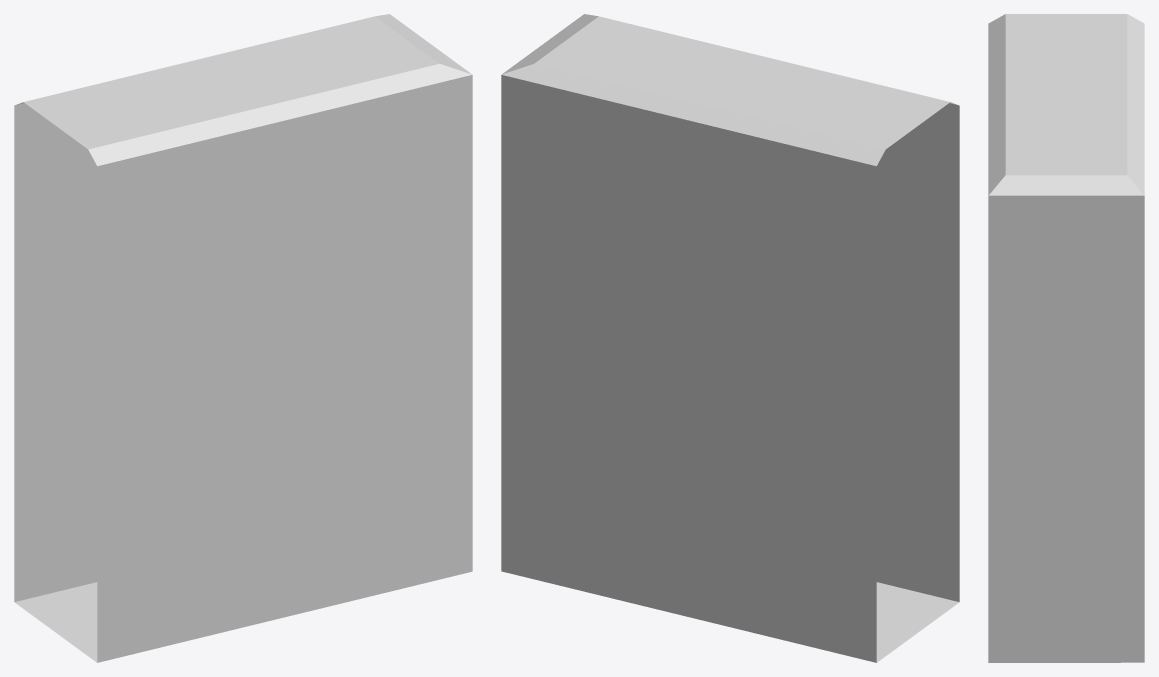
File: Itr_Couch_Outside_Back_Right_06.FBX
3 renders of one model, left to right at view 1: azimuth 30°, elevation 25°; view 2: azimuth 150°, elevation 25°; view 3: azimuth 270°, elevation 25°, orthographic. The views are drawn at different scales.
Visible parts, largest first — view 1: Itr_Couch_Outside_Back_Right_06; view 2: Itr_Couch_Outside_Back_Right_06; view 3: Itr_Couch_Outside_Back_Right_06.
Boxes of the visible parts, bbox=[...] form: Itr_Couch_Outside_Back_Right_06: bbox=[14, 14, 472, 662]; Itr_Couch_Outside_Back_Right_06: bbox=[501, 14, 959, 662]; Itr_Couch_Outside_Back_Right_06: bbox=[988, 14, 1144, 662].
Size of the model in its own units: 18.79 by 24.25 by 7.19.
